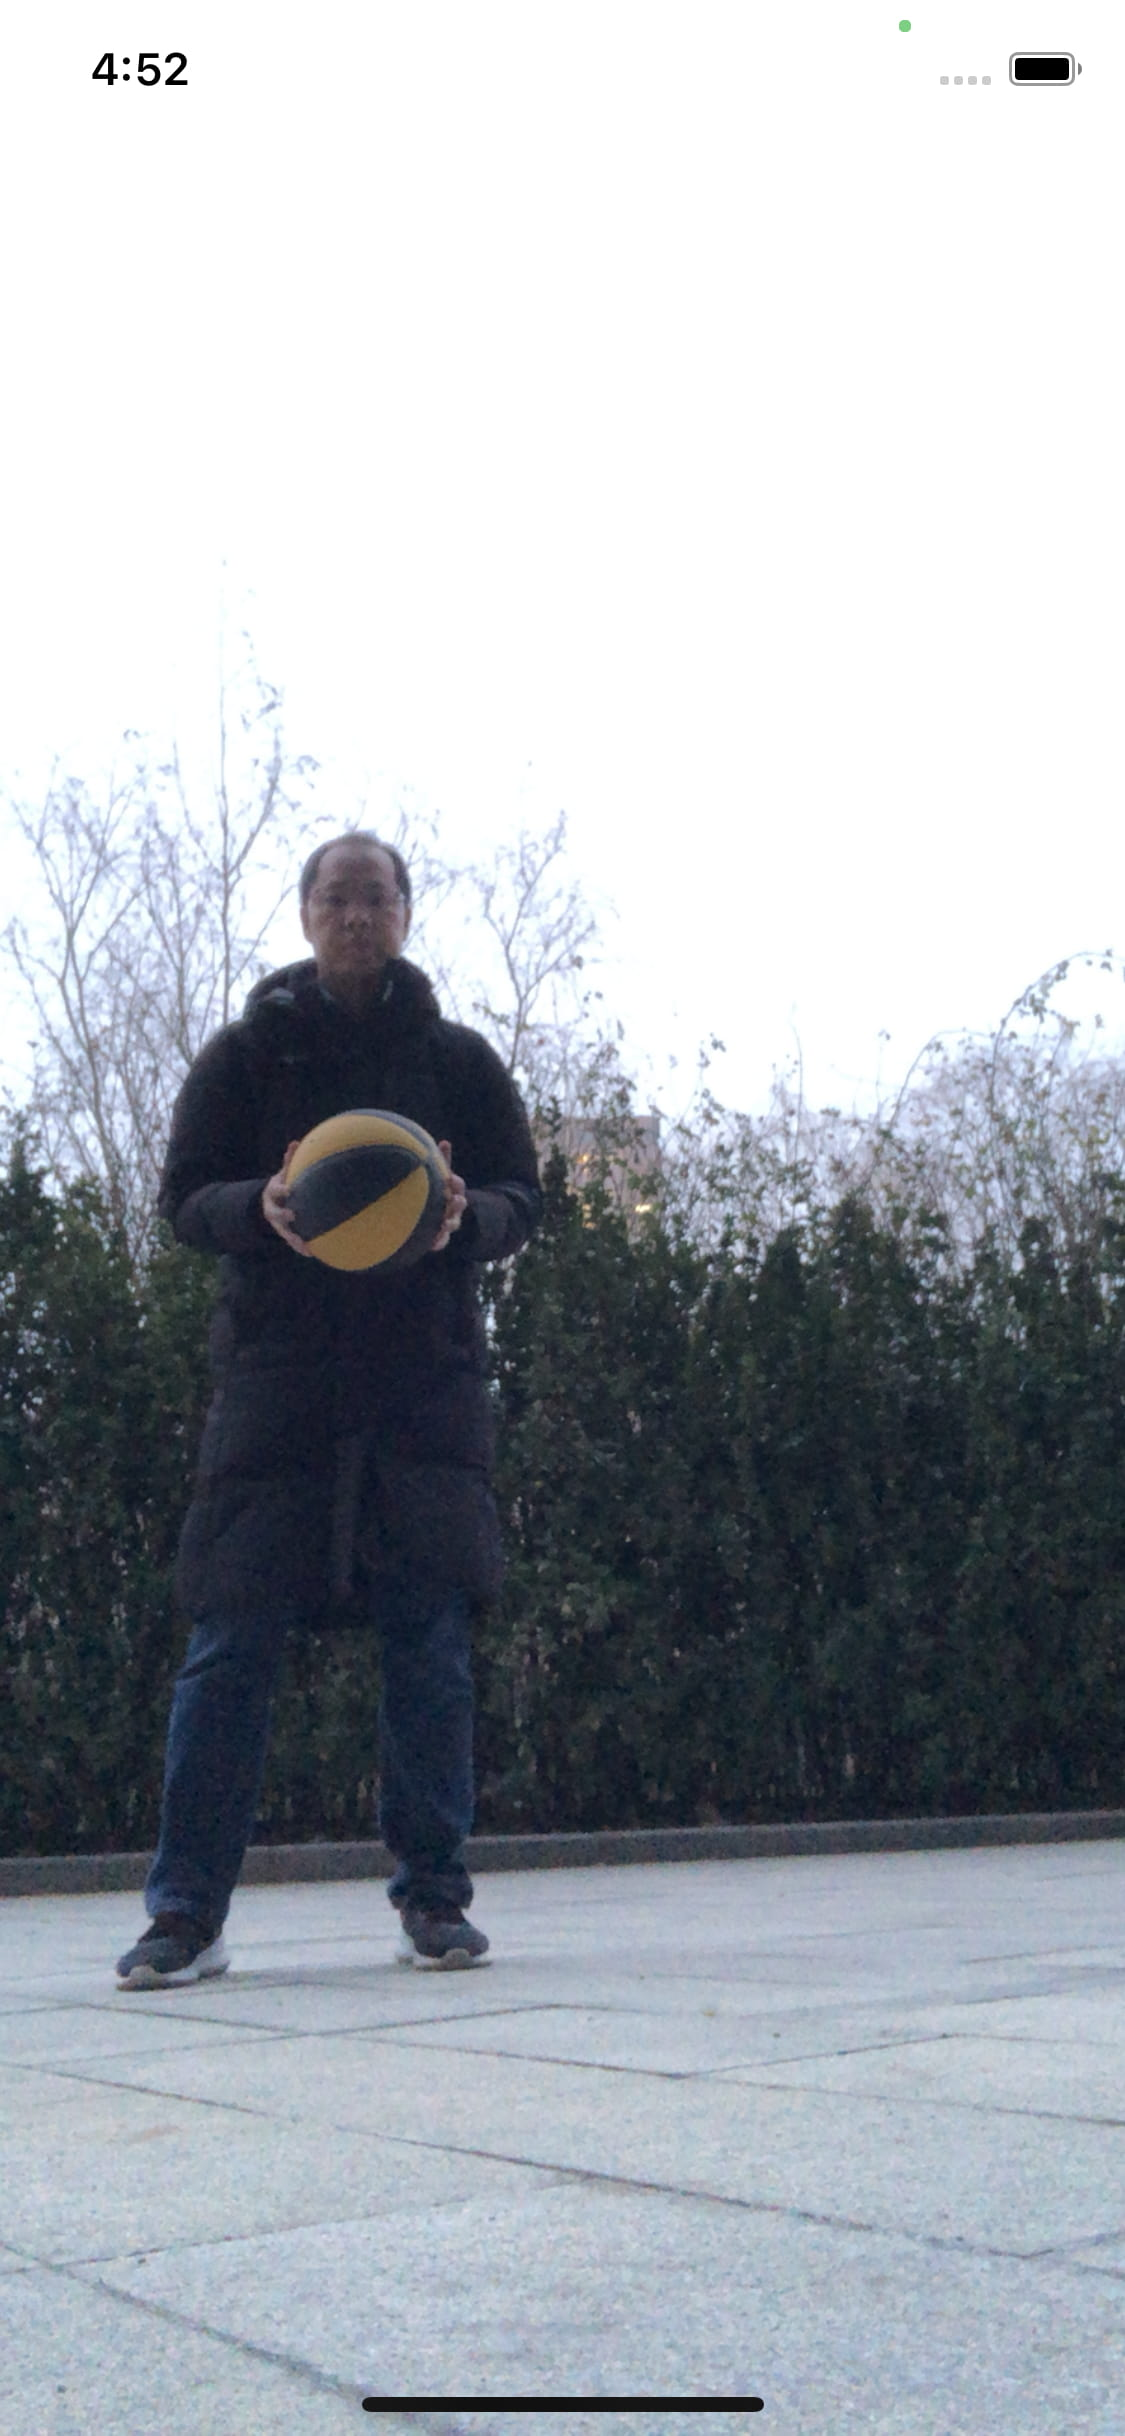ball: (283, 1101, 448, 1282)
